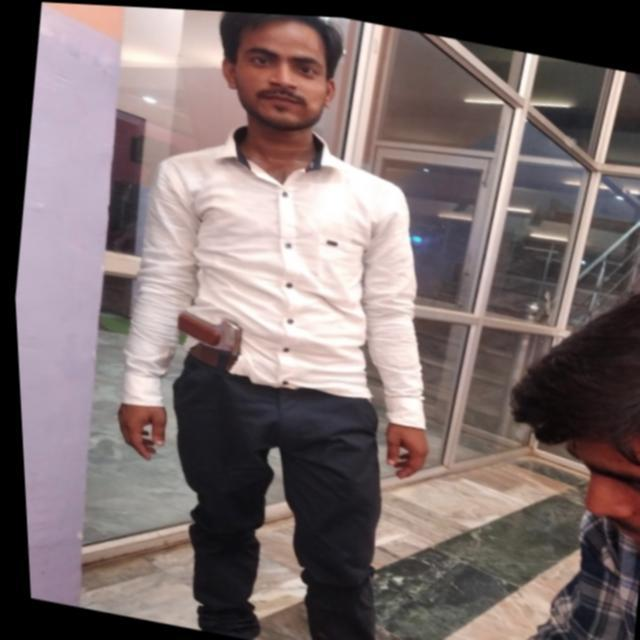weapon: (162, 306, 247, 395)
